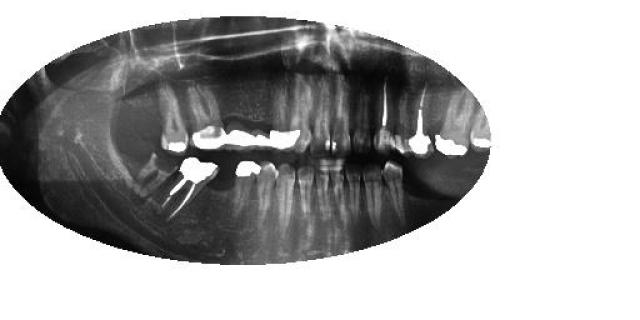Cavity: (136, 152, 182, 196)
Fillings: (435, 89, 473, 159), (189, 80, 225, 151), (155, 84, 189, 151), (268, 85, 294, 154), (231, 162, 260, 216), (226, 106, 250, 149), (473, 108, 495, 152), (250, 124, 269, 150)
Implant: (160, 156, 222, 222), (408, 85, 433, 156), (375, 80, 395, 152)
